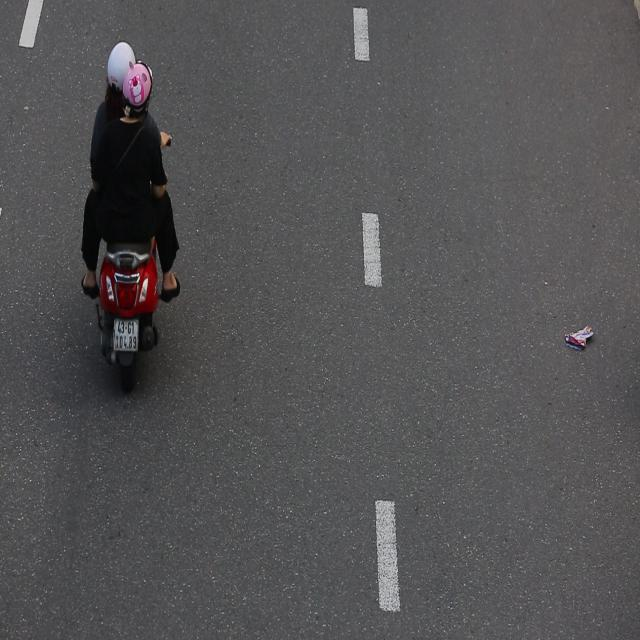motorbike: (80, 27, 185, 405)
